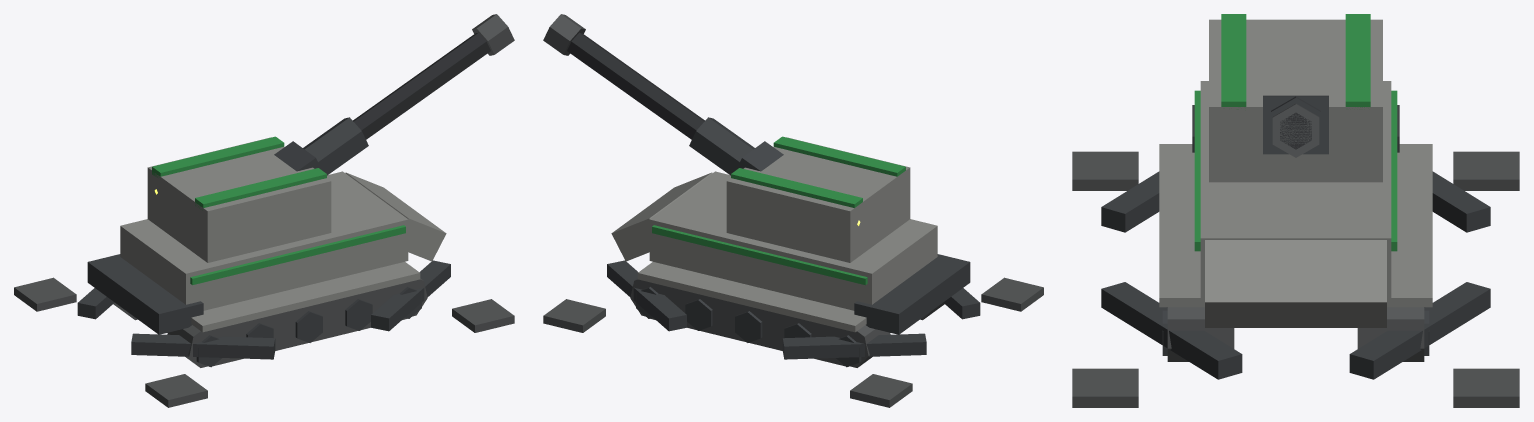
The model's file is u_arty_lod1.glb.
The picture shows the model from 3 angles, left to right: view 1: azimuth 30°, elevation 25°; view 2: azimuth 150°, elevation 25°; view 3: azimuth 270°, elevation 25°; orthographic projection. The views are drawn at different scales.
Parts seen in each view (by area): view 1: Arty_LOD1_turret, Arty_LOD1_Walls, Arty_LOD1_spade, Arty_LOD1_Frame, Arty_LOD1_Foundation, Arty_LOD1_Details; view 2: Arty_LOD1_turret, Arty_LOD1_Walls, Arty_LOD1_spade, Arty_LOD1_Frame, Arty_LOD1_Foundation, Arty_LOD1_Details; view 3: Arty_LOD1_Walls, Arty_LOD1_turret, Arty_LOD1_spade, Arty_LOD1_Foundation, Arty_LOD1_Details, Arty_LOD1_Frame.
Part boxes in pixels (x1,y1,x2,y2): Arty_LOD1_turret: [147, 14, 514, 262]; Arty_LOD1_Walls: [120, 171, 446, 332]; Arty_LOD1_spade: [14, 260, 514, 407]; Arty_LOD1_Frame: [87, 254, 421, 367]; Arty_LOD1_Foundation: [113, 278, 427, 367]; Arty_LOD1_Details: [190, 225, 405, 285]; Arty_LOD1_turret: [543, 14, 910, 262]; Arty_LOD1_Walls: [611, 171, 937, 332]; Arty_LOD1_spade: [543, 260, 1043, 407]; Arty_LOD1_Frame: [636, 254, 970, 367]; Arty_LOD1_Foundation: [630, 278, 944, 367]; Arty_LOD1_Details: [652, 225, 867, 285]; Arty_LOD1_Walls: [1159, 81, 1432, 327]; Arty_LOD1_turret: [1209, 14, 1382, 182]; Arty_LOD1_spade: [1072, 151, 1519, 407]; Arty_LOD1_Foundation: [1167, 307, 1424, 361]; Arty_LOD1_Details: [1194, 90, 1397, 251]; Arty_LOD1_Frame: [1162, 105, 1429, 355].
Bounding box in the file's own units: 1.69 × 0.9267 × 1.08.
